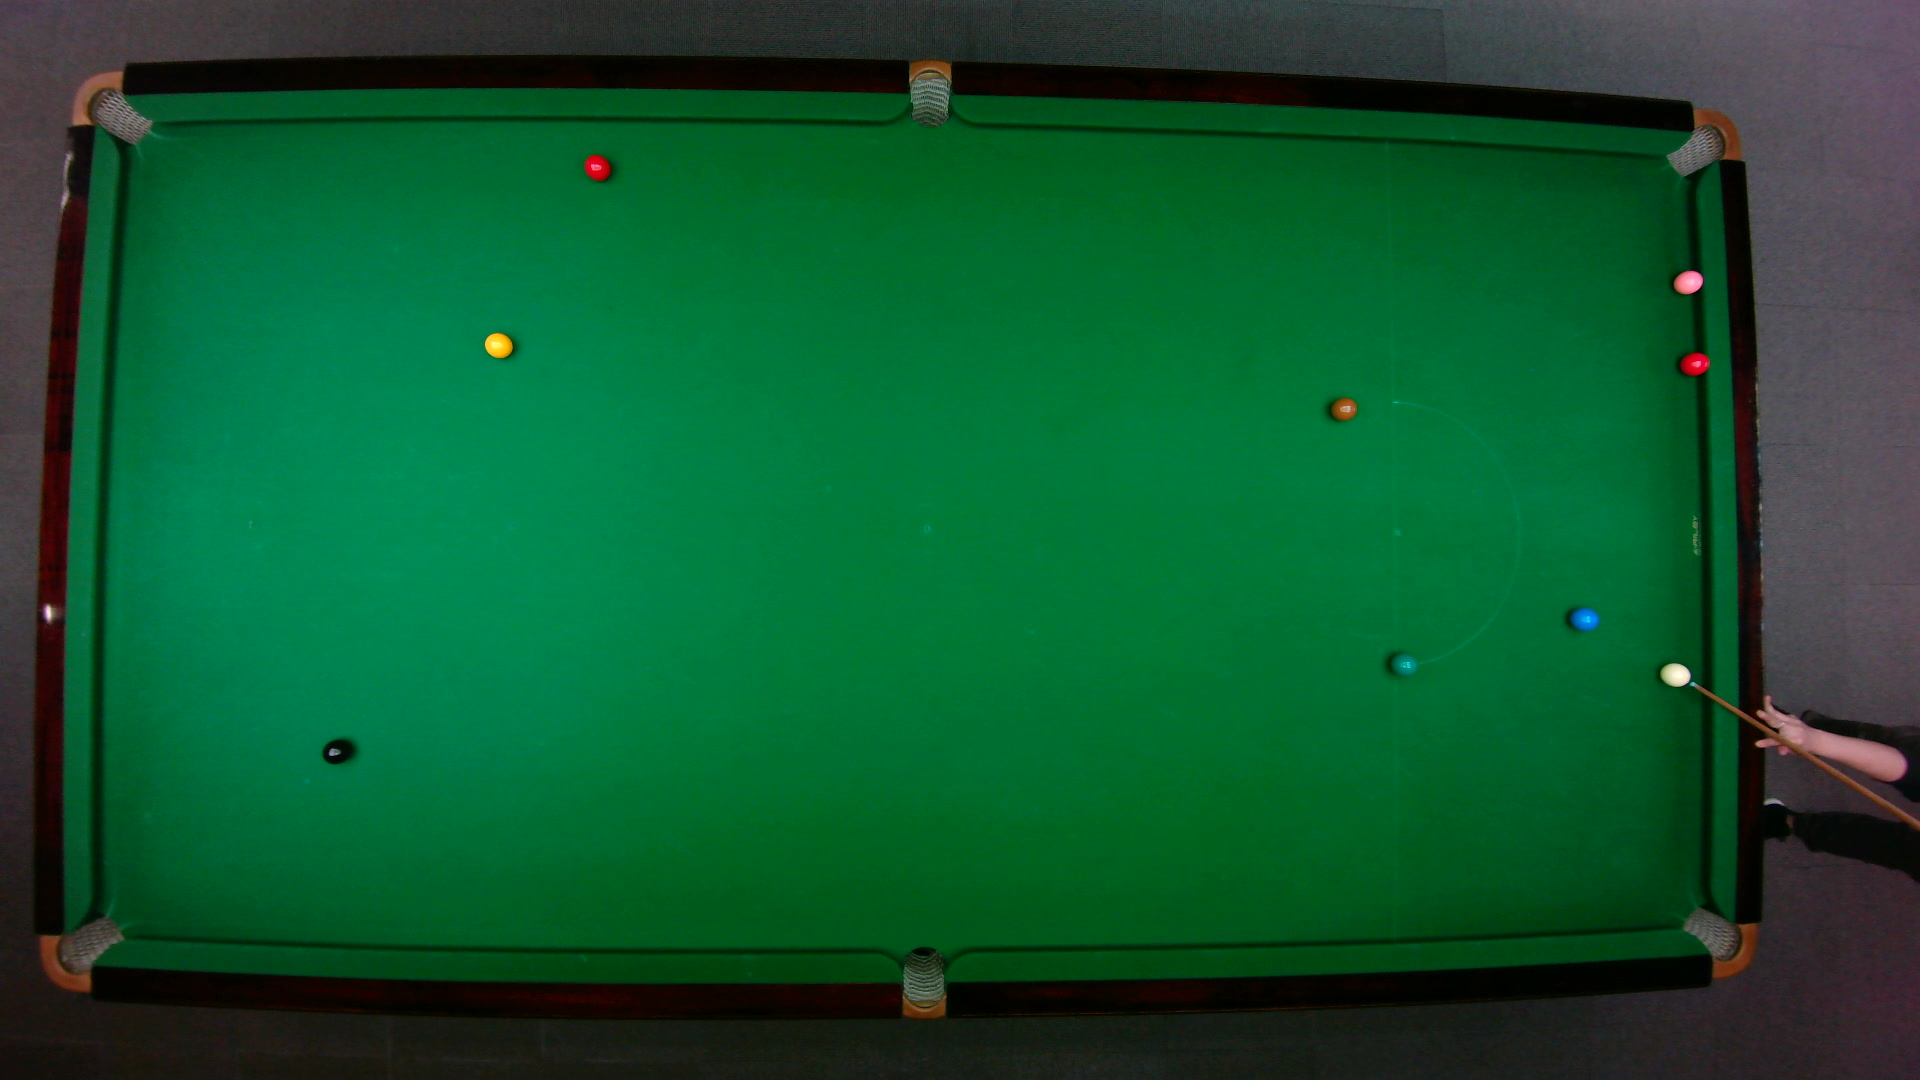bag: (37, 914, 125, 992), (69, 69, 152, 145), (1677, 905, 1756, 978), (1663, 107, 1742, 177), (901, 944, 944, 1021), (909, 55, 951, 128)
black: (320, 736, 352, 765)
blue: (1568, 607, 1600, 632)
brown: (1328, 396, 1358, 421)
cue: (1688, 676, 1917, 825)
green: (1389, 650, 1418, 676)
pink: (1669, 266, 1704, 295)
red: (1677, 349, 1712, 376), (582, 153, 611, 181)
white: (1658, 659, 1691, 687)
yellow: (481, 330, 514, 359)
zone: (1389, 398, 1519, 667)
